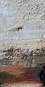Corrosion: (1, 46, 45, 87)
